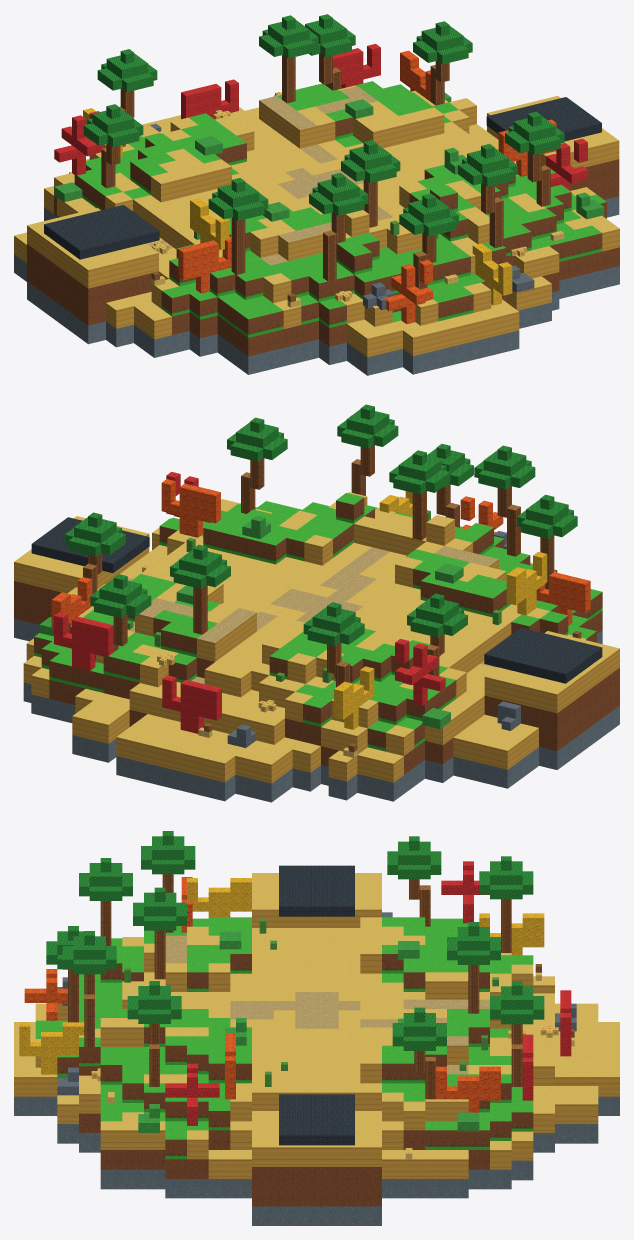
The model's file is Coral_Coast_Island_TextureUV_4096.glb.
The picture shows the model from 3 angles, top to bottom: view 1: azimuth 30°, elevation 25°; view 2: azimuth 150°, elevation 25°; view 3: azimuth 270°, elevation 25°; orthographic projection. The views are drawn at different scales.
Visible parts, largest first — view 1: IslandGround, PalmTrees_Leaves, CoralFormations, PalmTrees_Trunks, PortalPlacement_Left, BushesAndPlants, PortalPlacement_Right, BeachDecorations, Rocks; view 2: IslandGround, PalmTrees_Leaves, CoralFormations, PalmTrees_Trunks, PortalPlacement_Left, PortalPlacement_Right, BushesAndPlants, Rocks, BeachDecorations, Flowers; view 3: IslandGround, PalmTrees_Leaves, CoralFormations, PalmTrees_Trunks, PortalPlacement_Left, PortalPlacement_Right, BushesAndPlants, Rocks, Flowers, BeachDecorations.
Part boxes in pixels (x1,y1,x2,y2): IslandGround: (14, 81, 619, 375); PalmTrees_Leaves: (83, 14, 564, 236); CoralFormations: (54, 43, 587, 324); PalmTrees_Trunks: (101, 53, 550, 289); PortalPlacement_Left: (44, 205, 159, 259); BushesAndPlants: (54, 92, 604, 221); PortalPlacement_Right: (486, 97, 601, 141); BeachDecorations: (151, 92, 564, 307); Rocks: (147, 124, 534, 310); IslandGround: (14, 492, 619, 802); PalmTrees_Leaves: (64, 404, 577, 646); CoralFormations: (51, 472, 590, 733); PalmTrees_Trunks: (83, 445, 554, 687); PortalPlacement_Left: (484, 627, 602, 683); PortalPlacement_Right: (31, 517, 149, 572); BushesAndPlants: (39, 515, 463, 729); Rocks: (227, 531, 520, 747); BeachDecorations: (142, 564, 581, 757); Flowers: (127, 510, 501, 683); IslandGround: (14, 873, 619, 1225); PalmTrees_Leaves: (46, 831, 544, 1050); CoralFormations: (19, 861, 571, 1125); PalmTrees_Trunks: (68, 874, 522, 1099); PortalPlacement_Left: (279, 865, 354, 916); PortalPlacement_Right: (279, 1094, 354, 1145); BushesAndPlants: (138, 931, 479, 1132); Rocks: (57, 912, 576, 1095); Flowers: (124, 918, 498, 1086); BeachDecorations: (91, 964, 574, 1159).
Size of the model in its own units: 240 by 75.5 by 224.
1 material, 1 textured.
